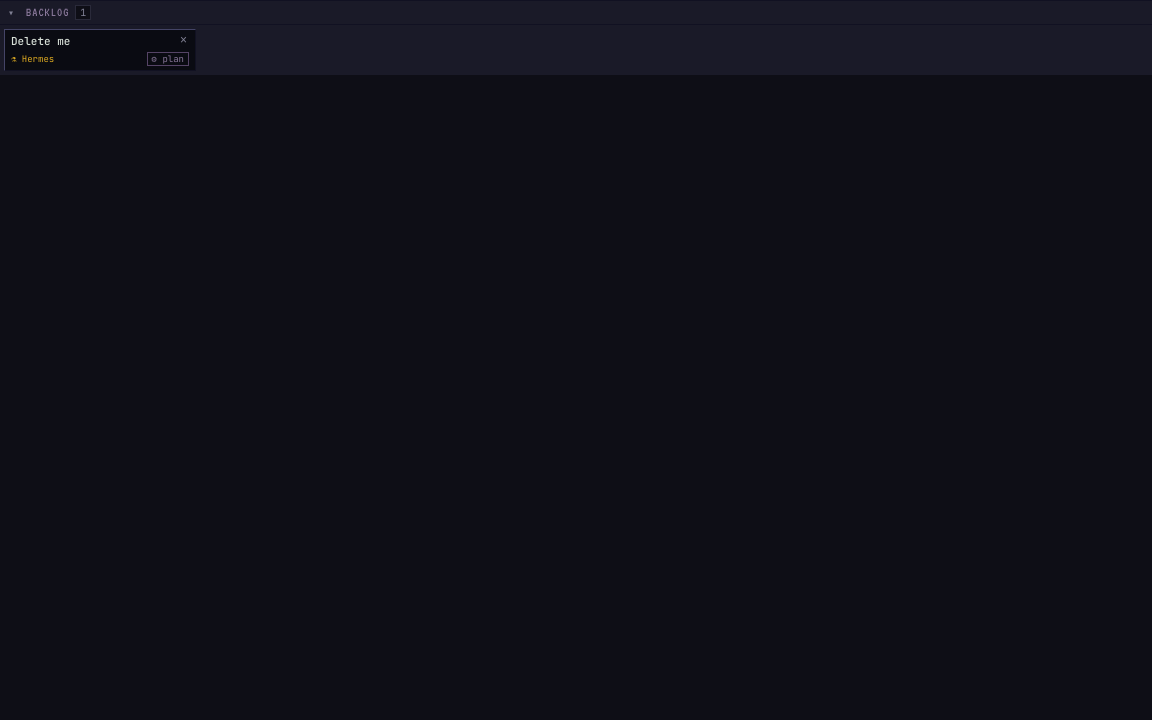
Scenario: BacklogSection › delete confirmation › shows confirmation dialog before deleting
Click the button titled "Delete issue" at x=184, y=40, box [178, 34, 189, 46]
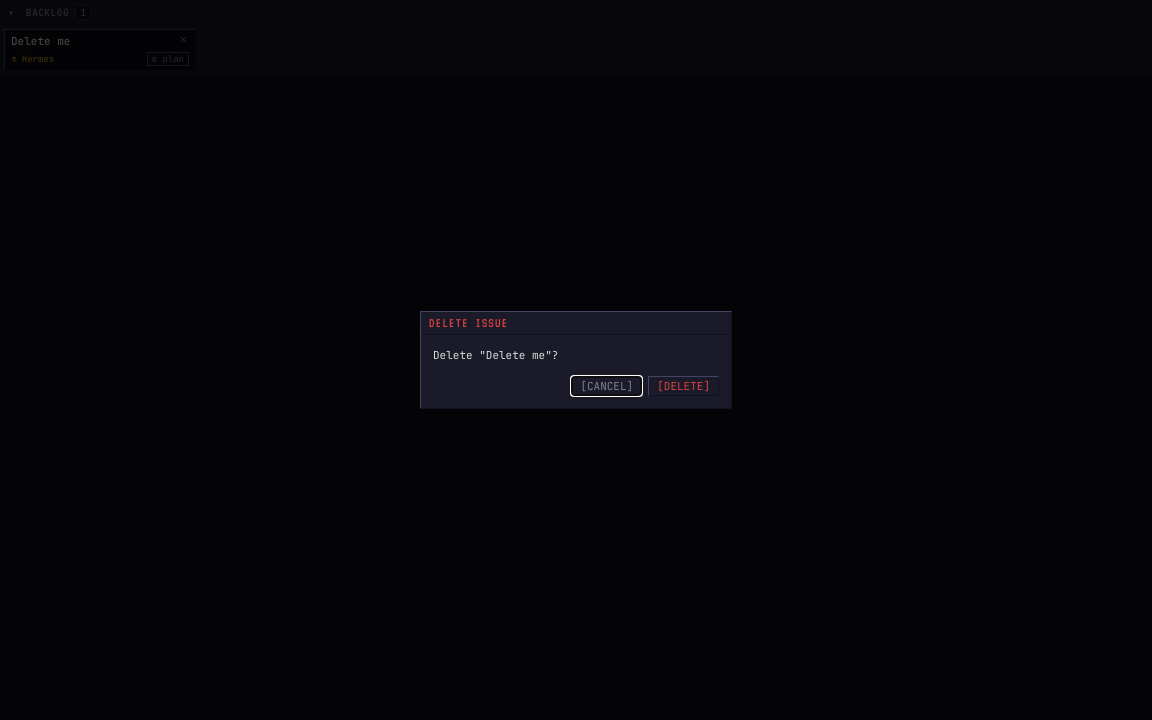
Expected: the dialog is shown, [420, 311, 732, 409]
Expected: the text "Delete \"Delete me\"?" is shown, [433, 348, 558, 362]
